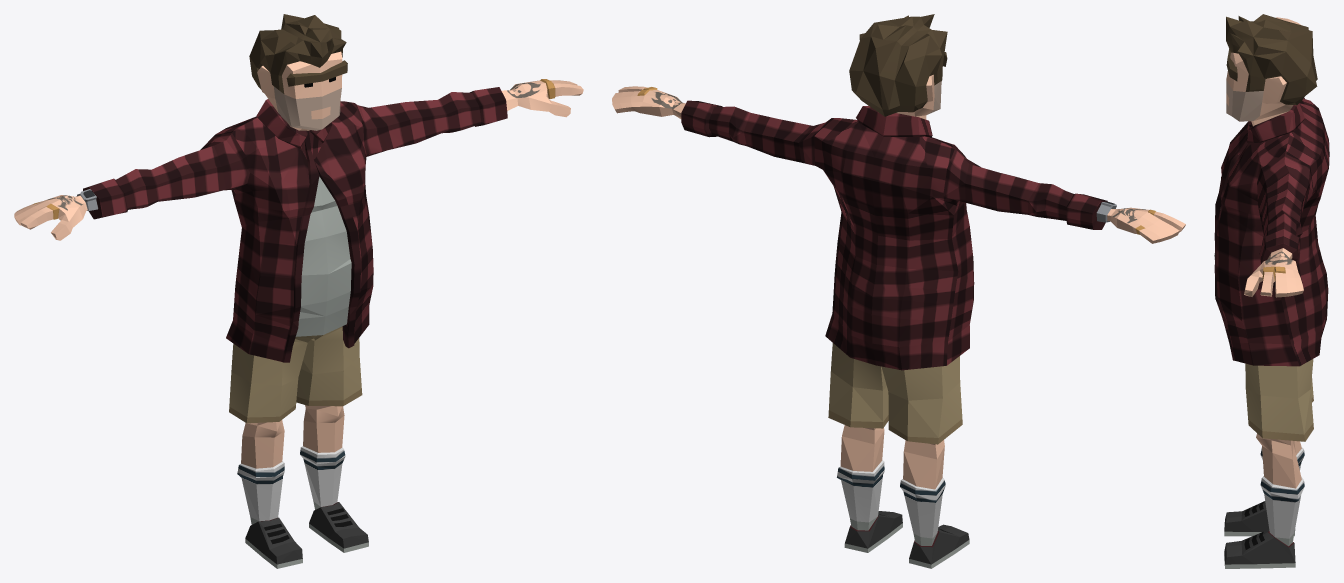
File: Murderer1.fbx
3 views of the same model, side by side, from view 1: azimuth 30°, elevation 25°; view 2: azimuth 150°, elevation 25°; view 3: azimuth 270°, elevation 25° (orthographic).
Parts seen in each view (by area): view 1: SK_Chr_DEA_Agent_Male_02_SK_Chr_DEA_Agent_Male_01; view 2: SK_Chr_DEA_Agent_Male_02_SK_Chr_DEA_Agent_Male_01; view 3: SK_Chr_DEA_Agent_Male_02_SK_Chr_DEA_Agent_Male_01.
Boxes of the visible parts, left/top/right/bottom form: SK_Chr_DEA_Agent_Male_02_SK_Chr_DEA_Agent_Male_01: left=14, top=14, right=583, bottom=568; SK_Chr_DEA_Agent_Male_02_SK_Chr_DEA_Agent_Male_01: left=612, top=14, right=1185, bottom=568; SK_Chr_DEA_Agent_Male_02_SK_Chr_DEA_Agent_Male_01: left=1214, top=14, right=1329, bottom=568.
Size of the model in its own units: 205 by 182 by 36.06.
1 material, 1 textured.
